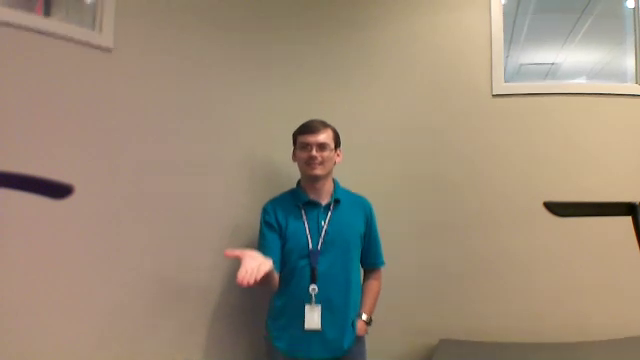land: (210, 239, 280, 293)
